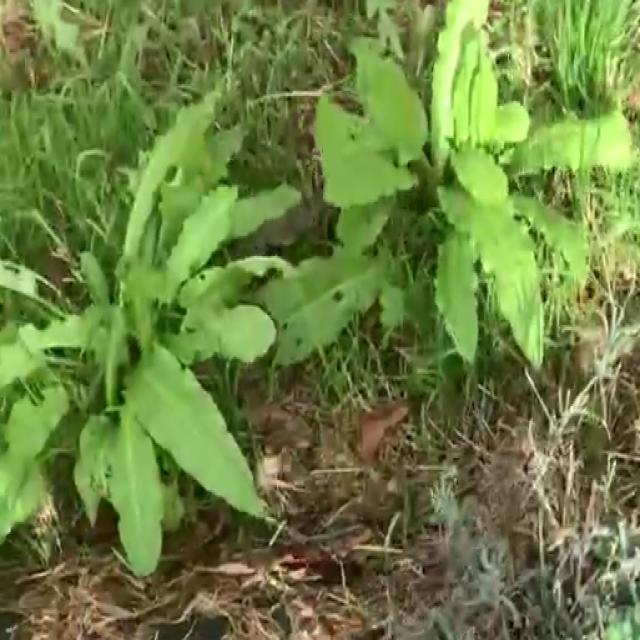organic waste: (0, 101, 298, 586), (302, 0, 640, 364)
